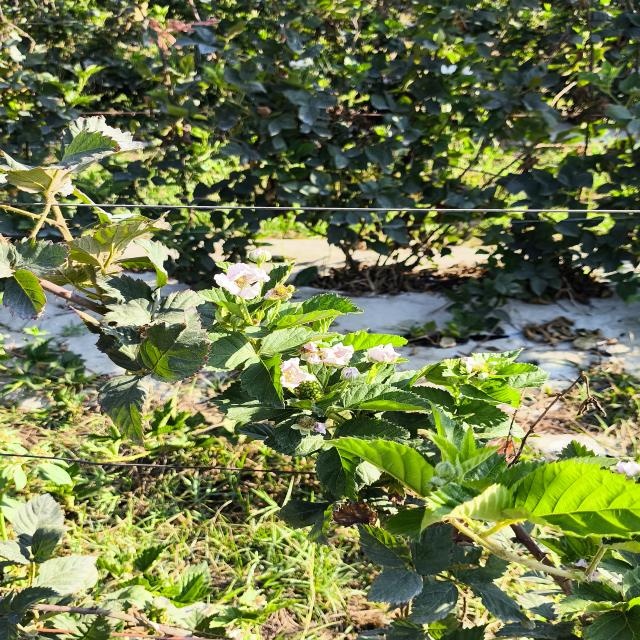boton: (248, 248, 272, 267), (341, 367, 361, 381)
flor: (214, 263, 269, 300), (279, 358, 317, 389), (320, 343, 354, 366), (368, 343, 401, 363)
